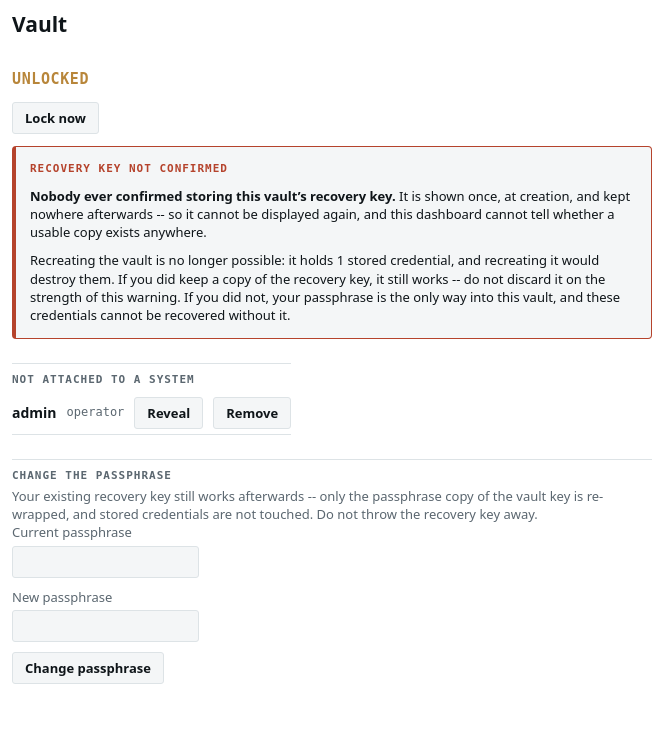
Test case: VaultPanel › removing a credential (C1) › backing out of the confirmation deletes nothing and restores the row
This screenshot has width=669, height=744.
Click the button with test id "remove-c1": (252, 413) [213,396,291,429]
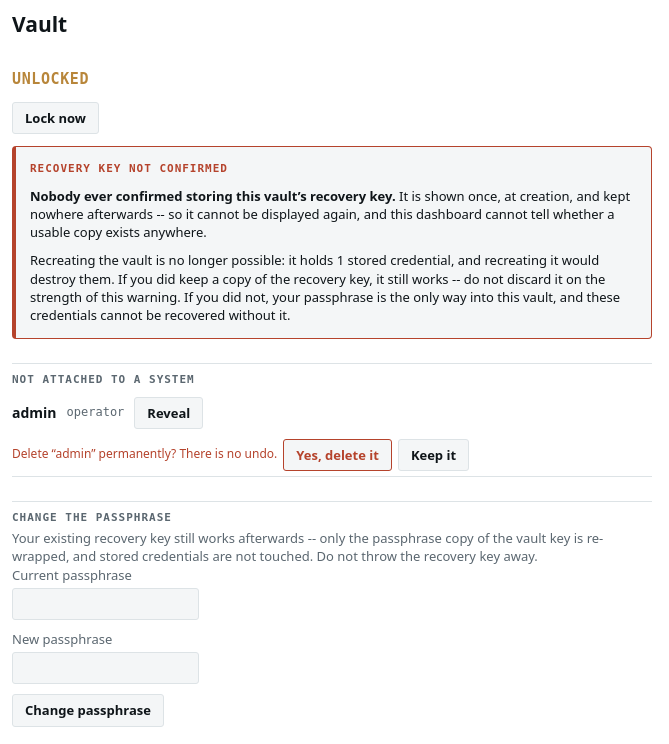
Click the button with test id "cancel-remove-c1": (434, 455) [398,439,469,471]
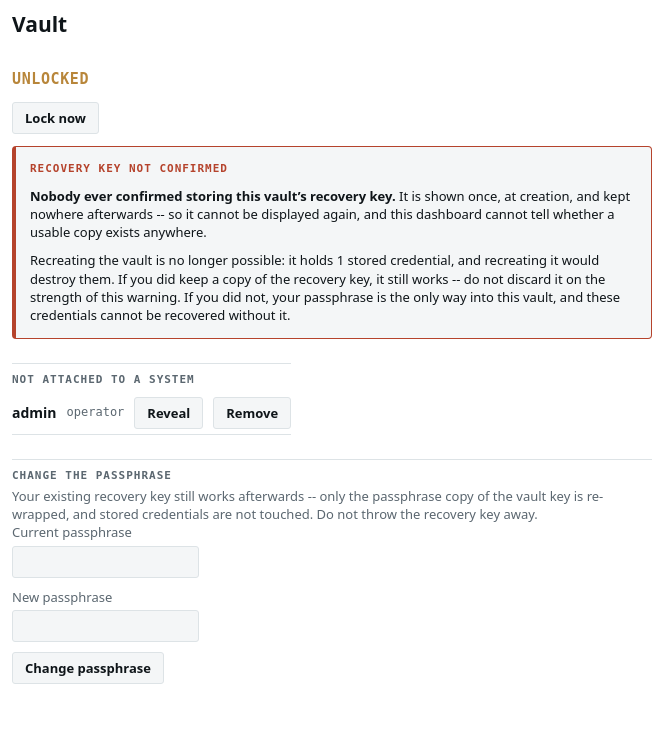
Now the button with test id "remove-c1" is shown, box [213,396,291,429]
Now the button with test id "confirm-remove-c1" is gone
